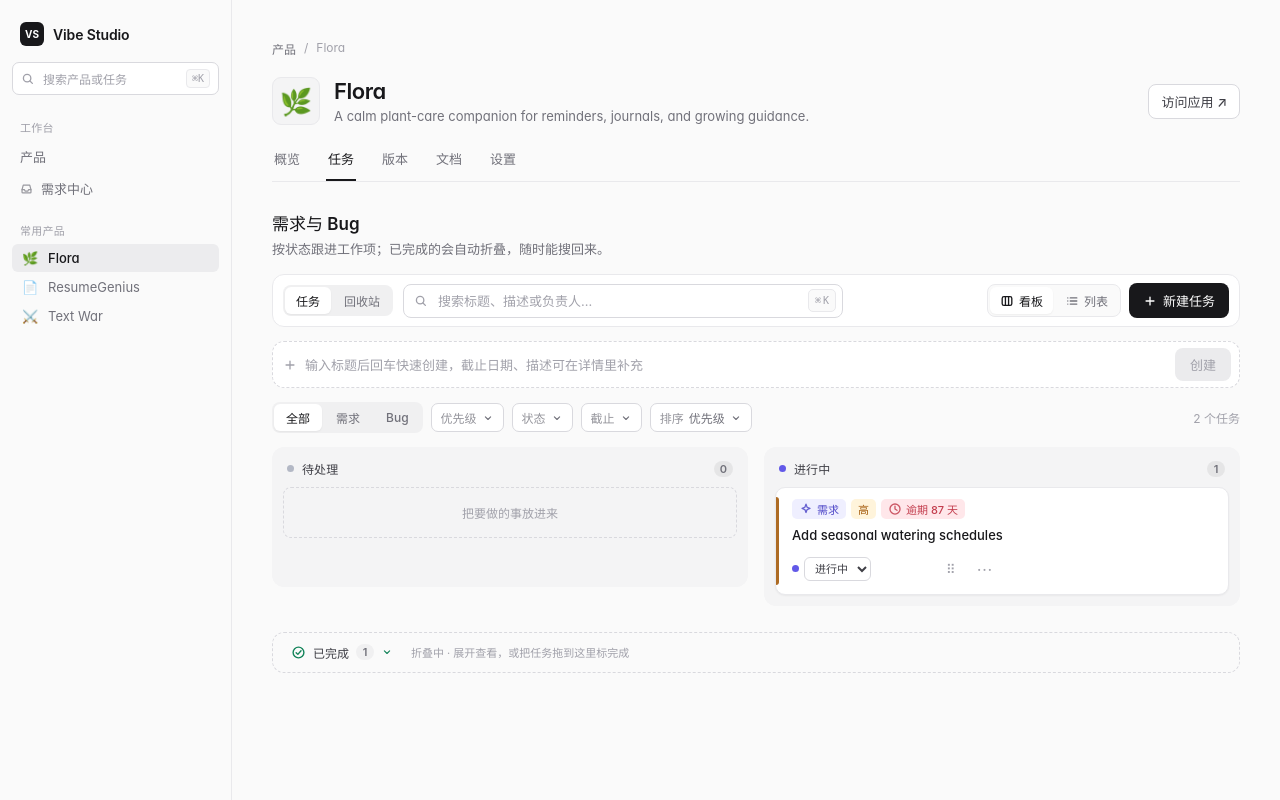
Test: TaskBoard DndContext integration › persists a valid drop and refreshes the board and overview metrics
Expected: the element "已完成 1" does not show "Reminder shifts after timezone change", [272,632,1240,673]
Click the button "已完成 1".
click(342, 652)  # box [283,639,401,666]
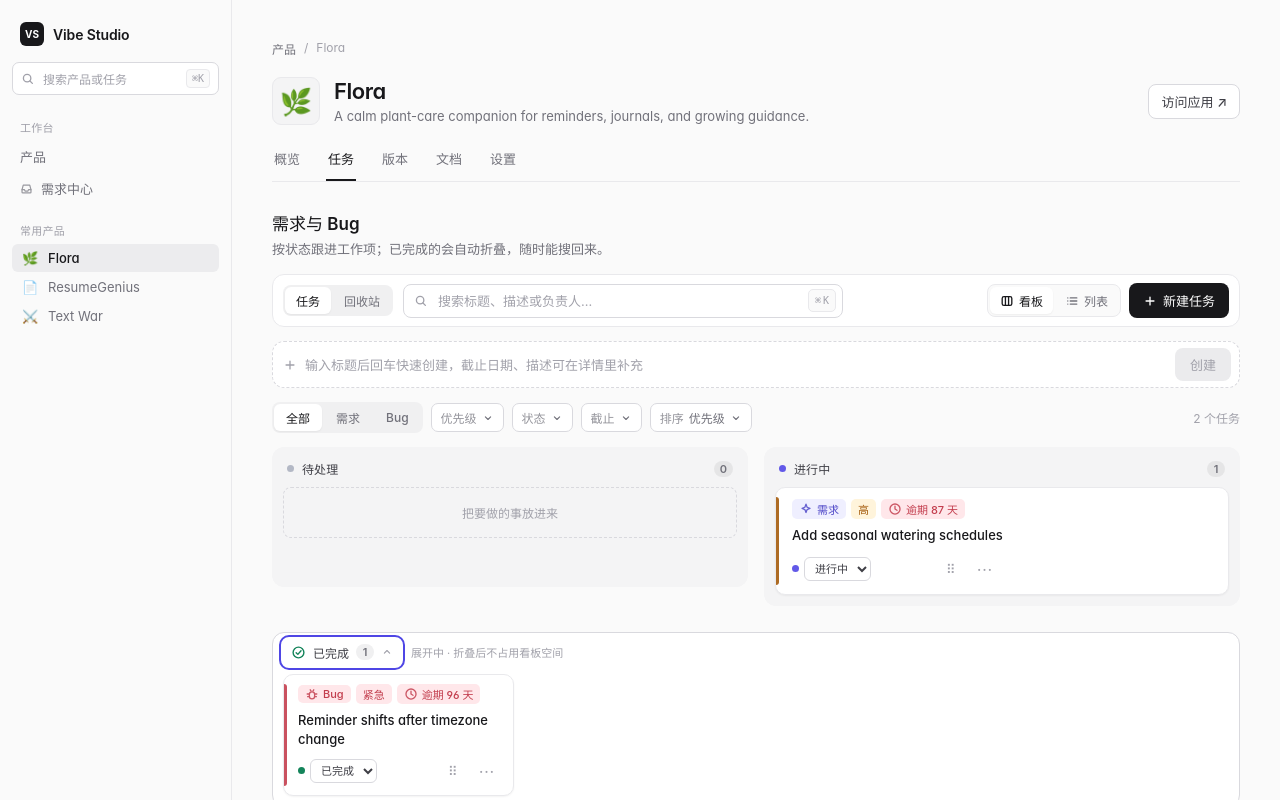
Now the element "已完成 1" shows "Reminder shifts after timezone change", box [298,711,502,748]
Click the link "概览".
click(287, 159)  # box [274,151,300,167]
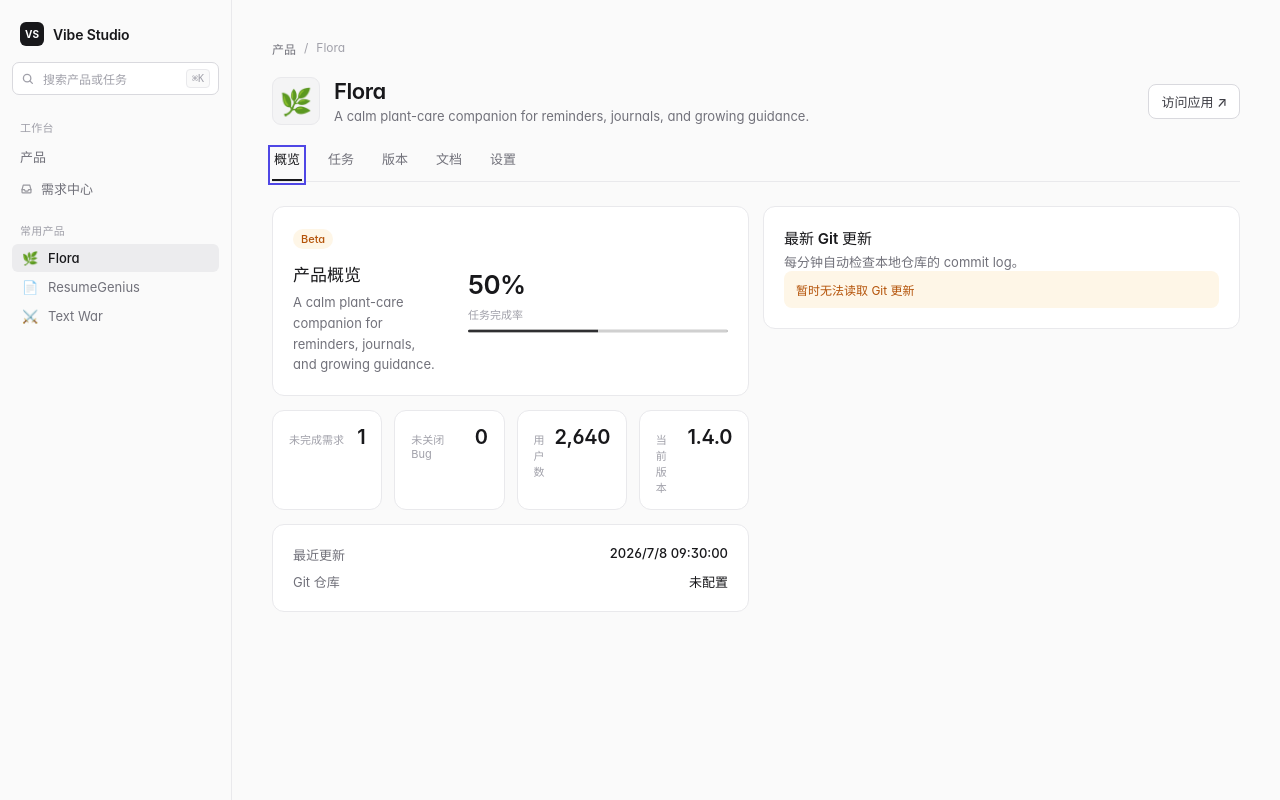
Now the text "0" is shown, box [475,425,488,449]
